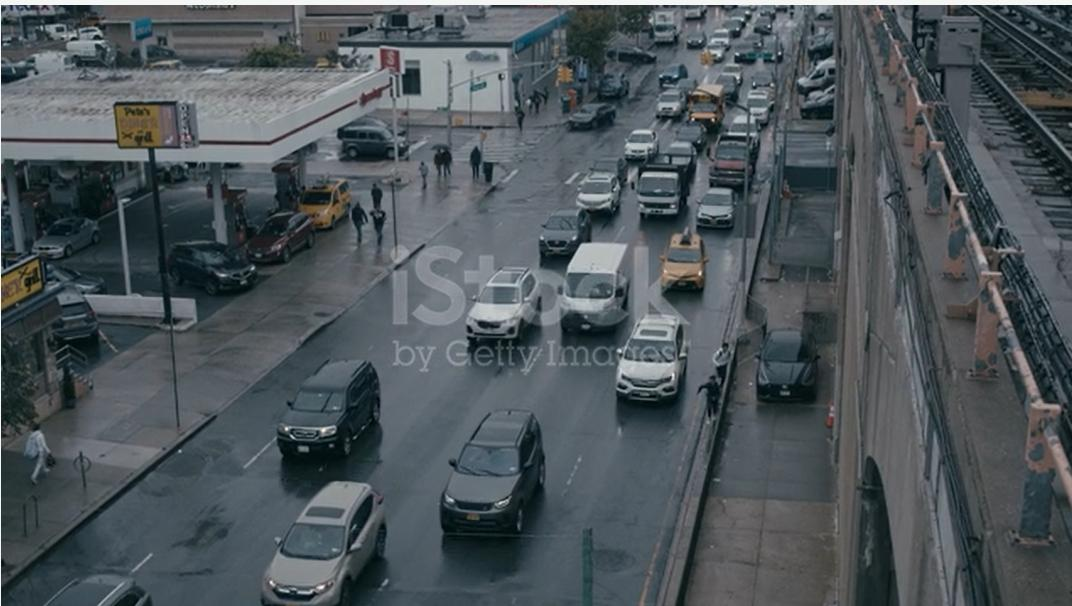car: (433, 381, 576, 583), (248, 455, 392, 606), (253, 339, 404, 475), (149, 211, 274, 315), (453, 243, 551, 366), (617, 307, 702, 432), (559, 239, 642, 352), (753, 301, 824, 424), (33, 273, 109, 368), (245, 193, 327, 275), (567, 139, 631, 244), (9, 207, 119, 265), (657, 223, 723, 316), (533, 191, 591, 282), (328, 119, 426, 167), (295, 179, 358, 234), (557, 85, 617, 142), (712, 132, 758, 188), (649, 88, 694, 127), (693, 187, 727, 235)
truck: (630, 125, 704, 243)
